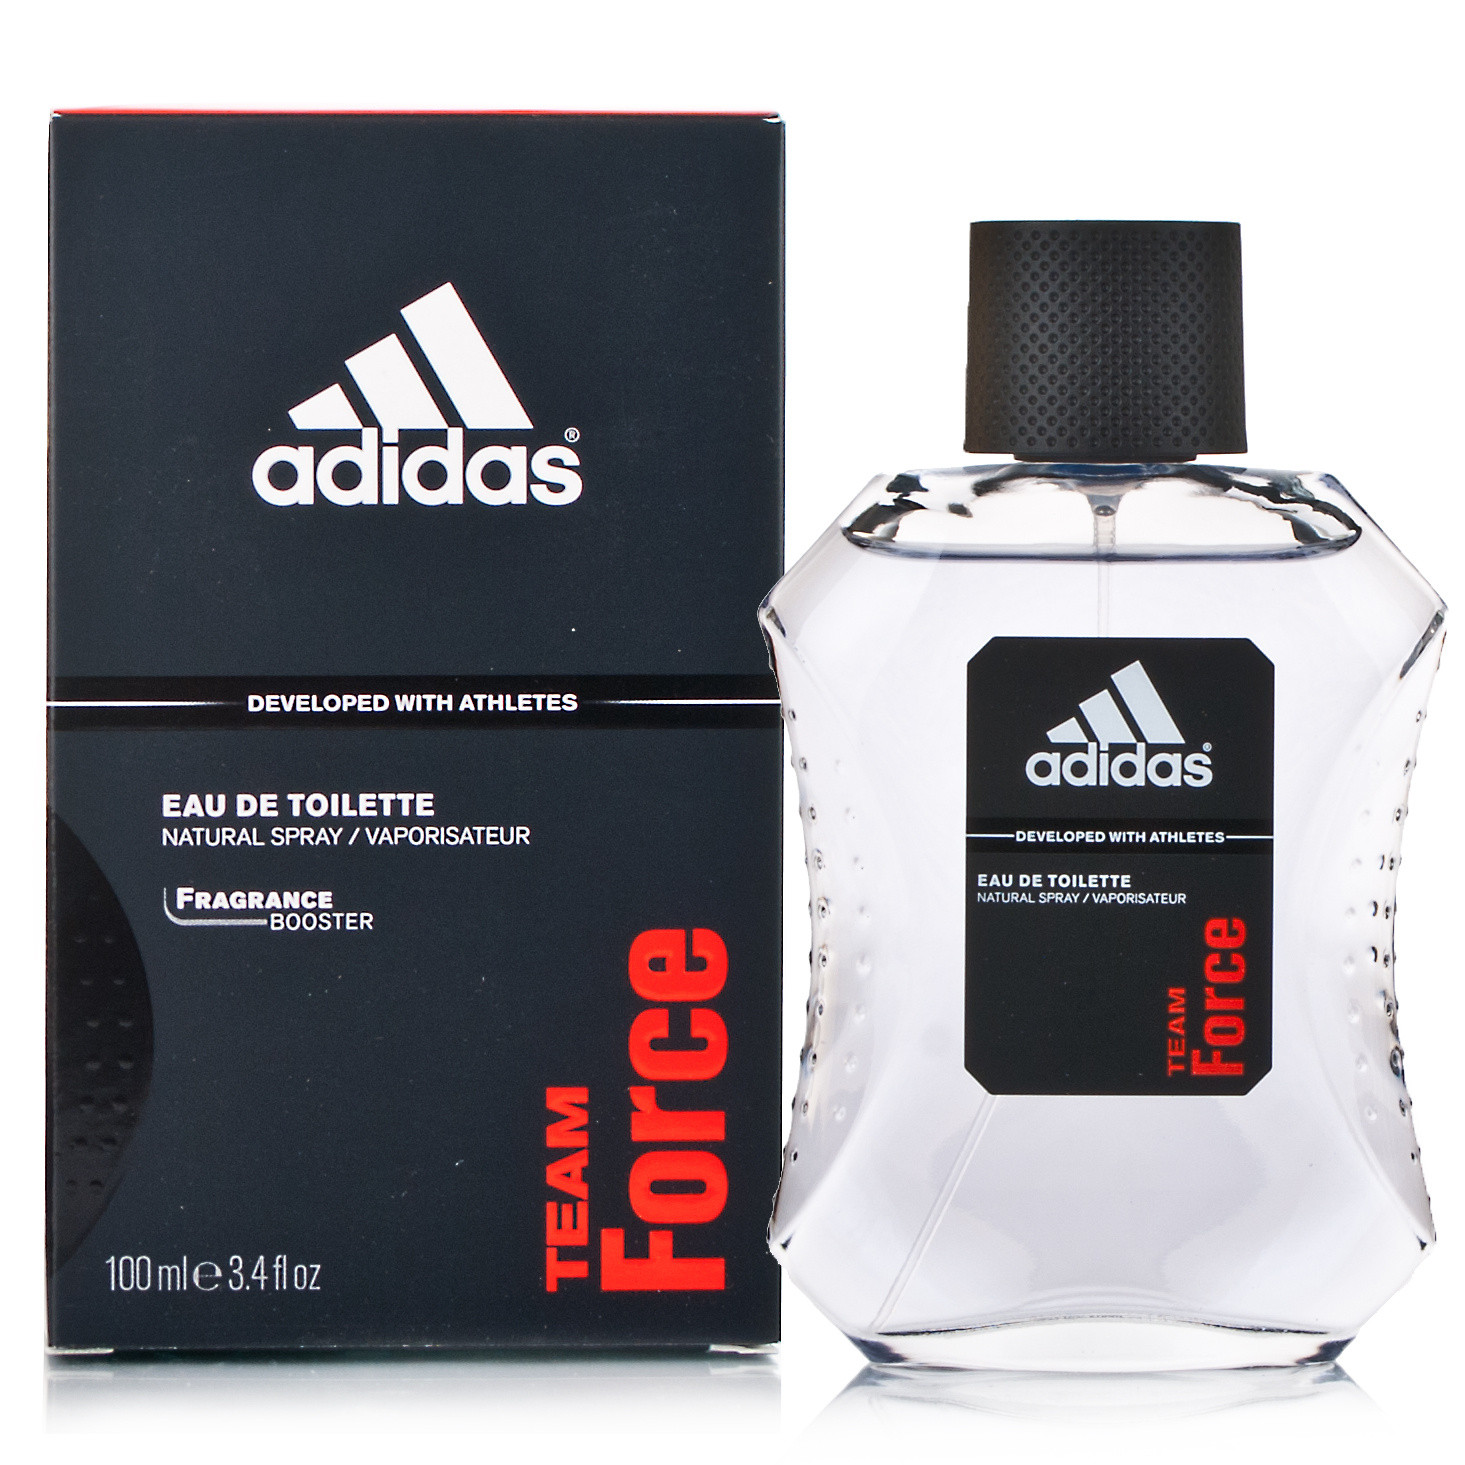Adidas: (225, 279, 594, 517), (1020, 644, 1219, 796)
